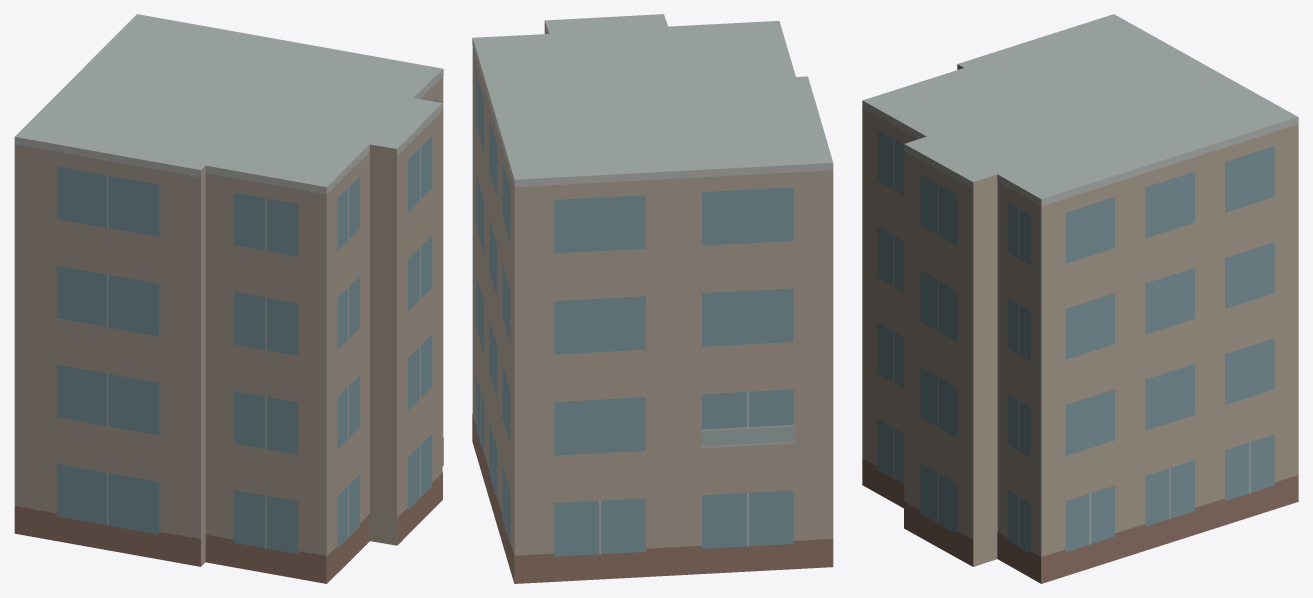
Rendered from survey-upis-32926459.glb.
The picture shows the model from 3 angles, left to right: view 1: azimuth 30°, elevation 25°; view 2: azimuth 150°, elevation 25°; view 3: azimuth 270°, elevation 25°; orthographic projection. The views are drawn at different scales.
Parts seen in each view (by area): view 1: survey-upis-32926459.tmp; view 2: survey-upis-32926459.tmp; view 3: survey-upis-32926459.tmp.
Part boxes in pixels (<box>): survey-upis-32926459.tmp: <box>14,14,443,583</box>; survey-upis-32926459.tmp: <box>472,14,833,583</box>; survey-upis-32926459.tmp: <box>862,14,1298,583</box>.
Size of the model in its own units: 13.64 by 13.2 by 13.57.
